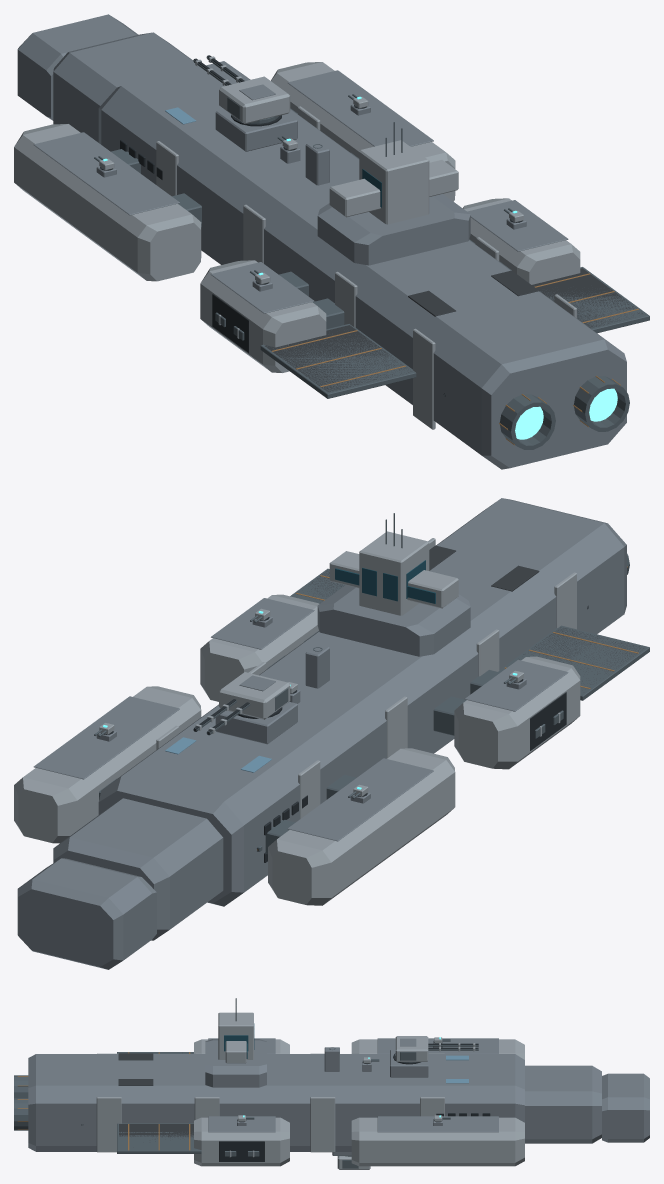
Rendered from earth_air_defense_cruiser_t4.glb.
3 renders of one model, top to bottom at view 1: azimuth 30°, elevation 25°; view 2: azimuth 150°, elevation 25°; view 3: azimuth 270°, elevation 25°, orthographic. The views are drawn at different scales.
Parts seen in each view (by area): view 1: FleetHull, mesh_turret_gun_1; view 2: FleetHull, mesh_turret_gun_1; view 3: FleetHull, mesh_turret_gun_1, mesh_recoil_gun_1, mesh_turret_gun_2.
Boxes of the visible parts, bbox=[...] form: FleetHull: bbox=[14, 14, 649, 469]; mesh_turret_gun_1: bbox=[219, 76, 290, 123]; FleetHull: bbox=[14, 498, 649, 969]; mesh_turret_gun_1: bbox=[219, 672, 290, 719]; FleetHull: bbox=[14, 998, 649, 1166]; mesh_turret_gun_1: bbox=[395, 1036, 428, 1062]; mesh_recoil_gun_1: bbox=[428, 1043, 478, 1051]; mesh_turret_gun_2: bbox=[337, 1156, 370, 1169].
Bounding box in the file's own units: 122 × 94.8 × 330.
